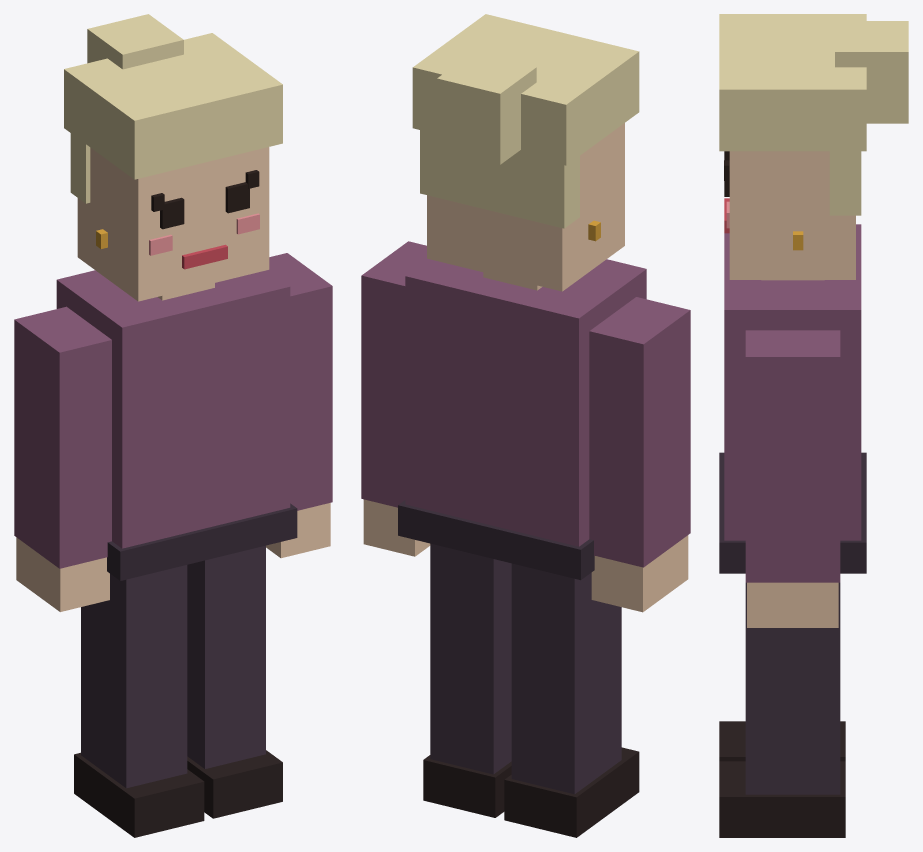
Rendered from town_clerk.glb.
3 views of the same model, side by side, from view 1: azimuth 30°, elevation 25°; view 2: azimuth 150°, elevation 25°; view 3: azimuth 270°, elevation 25° (orthographic). The views are drawn at different scales.
Visible parts, largest first — view 1: Box9, Box7, Box22, Box5, Box12, Box1, Box3, Box6, Box10, Box2, Box8, Box24 (+5 smaller); view 2: Box9, Box7, Box5, Box22, Box1, Box12, Box3, Box23, Box24, Box10, Box6, Box8 (+2 smaller); view 3: Box3, Box22, Box9, Box1, Box12, Box2, Box24, Box4, Box10, Box23, Box6.
Boxes of the visible parts, x1=… form: Box9: x1=56, y1=270, x2=290, y2=548; Box7: x1=14, y1=306, x2=111, y2=568; Box22: x1=64, y1=33, x2=282, y2=179; Box5: x1=81, y1=565, x2=187, y2=788; Box12: x1=77, y1=147, x2=269, y2=301; Box1: x1=187, y1=545, x2=265, y2=768; Box3: x1=268, y1=253, x2=332, y2=510; Box6: x1=74, y1=752, x2=204, y2=837; Box10: x1=107, y1=503, x2=297, y2=580; Box2: x1=187, y1=750, x2=282, y2=818; Box8: x1=16, y1=537, x2=109, y2=611; Box24: x1=87, y1=14, x2=183, y2=69; Box9: x1=405, y1=259, x2=646, y2=546; Box7: x1=589, y1=297, x2=690, y2=567; Box5: x1=511, y1=563, x2=621, y2=794; Box22: x1=412, y1=14, x2=639, y2=165; Box1: x1=430, y1=543, x2=511, y2=774; Box12: x1=427, y1=123, x2=624, y2=291; Box3: x1=361, y1=241, x2=427, y2=507; Box23: x1=420, y1=130, x2=579, y2=228; Box24: x1=437, y1=51, x2=536, y2=164; Box10: x1=398, y1=500, x2=594, y2=580; Box6: x1=504, y1=747, x2=639, y2=837; Box8: x1=591, y1=535, x2=688, y2=612; Box3: x1=745, y1=330, x2=840, y2=582; Box22: x1=719, y1=14, x2=866, y2=151; Box9: x1=724, y1=224, x2=861, y2=540; Box1: x1=745, y1=582, x2=840, y2=794; Box12: x1=729, y1=151, x2=855, y2=279; Box2: x1=719, y1=761, x2=845, y2=837; Box24: x1=835, y1=21, x2=908, y2=123; Box4: x1=747, y1=582, x2=838, y2=627; Box10: x1=719, y1=452, x2=866, y2=573; Box23: x1=829, y1=151, x2=861, y2=215; Box6: x1=719, y1=721, x2=845, y2=761.
Bounding box in the file's own units: 0.7088 × 1.81 × 0.4082.
